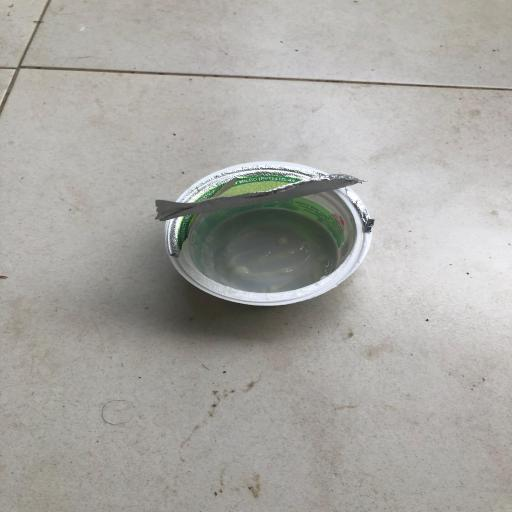waste: (146, 140, 391, 322)
